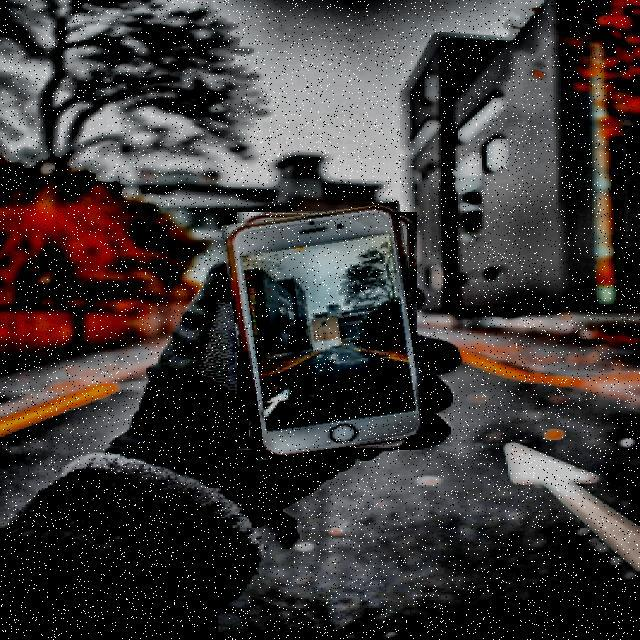Phone: (230, 207, 424, 456)
